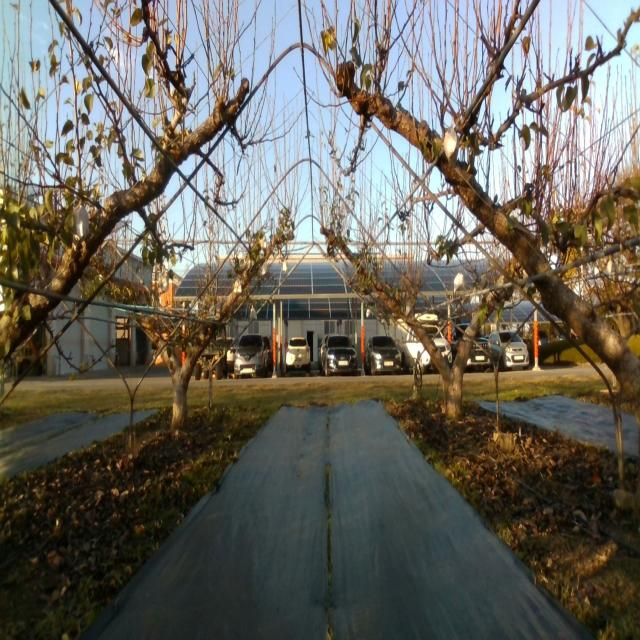pearbags: (444, 128, 459, 164), (74, 204, 89, 237), (453, 272, 465, 294), (157, 271, 169, 293)
